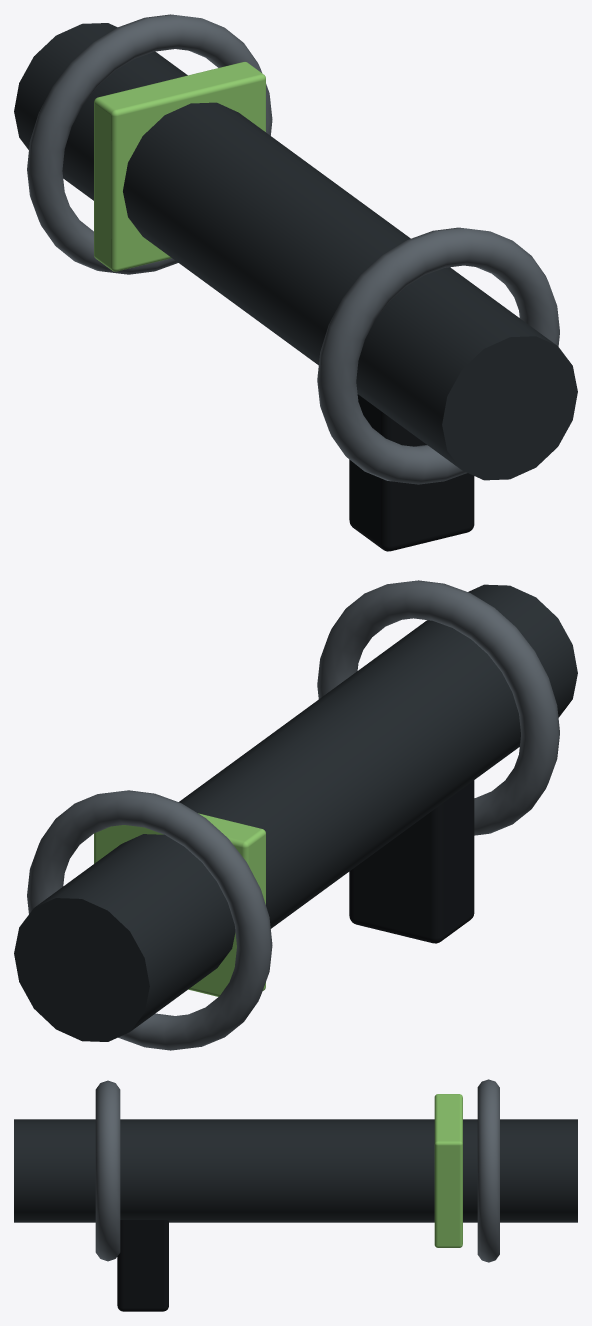
File: rpg.glb
The picture shows the model from 3 angles, top to bottom: view 1: azimuth 30°, elevation 25°; view 2: azimuth 150°, elevation 25°; view 3: azimuth 270°, elevation 25°; orthographic projection. The views are drawn at different scales.
Visible parts, largest first — view 1: rpg-weapon; view 2: rpg-weapon; view 3: rpg-weapon.
Part boxes in pixels (x1=…): rpg-weapon: x1=14, y1=14, x2=577, y2=551; rpg-weapon: x1=14, y1=580, x2=577, y2=1050; rpg-weapon: x1=14, y1=1079, x2=577, y2=1311.
Size of the model in its own units: 0.78 by 0.99 by 2.4.
